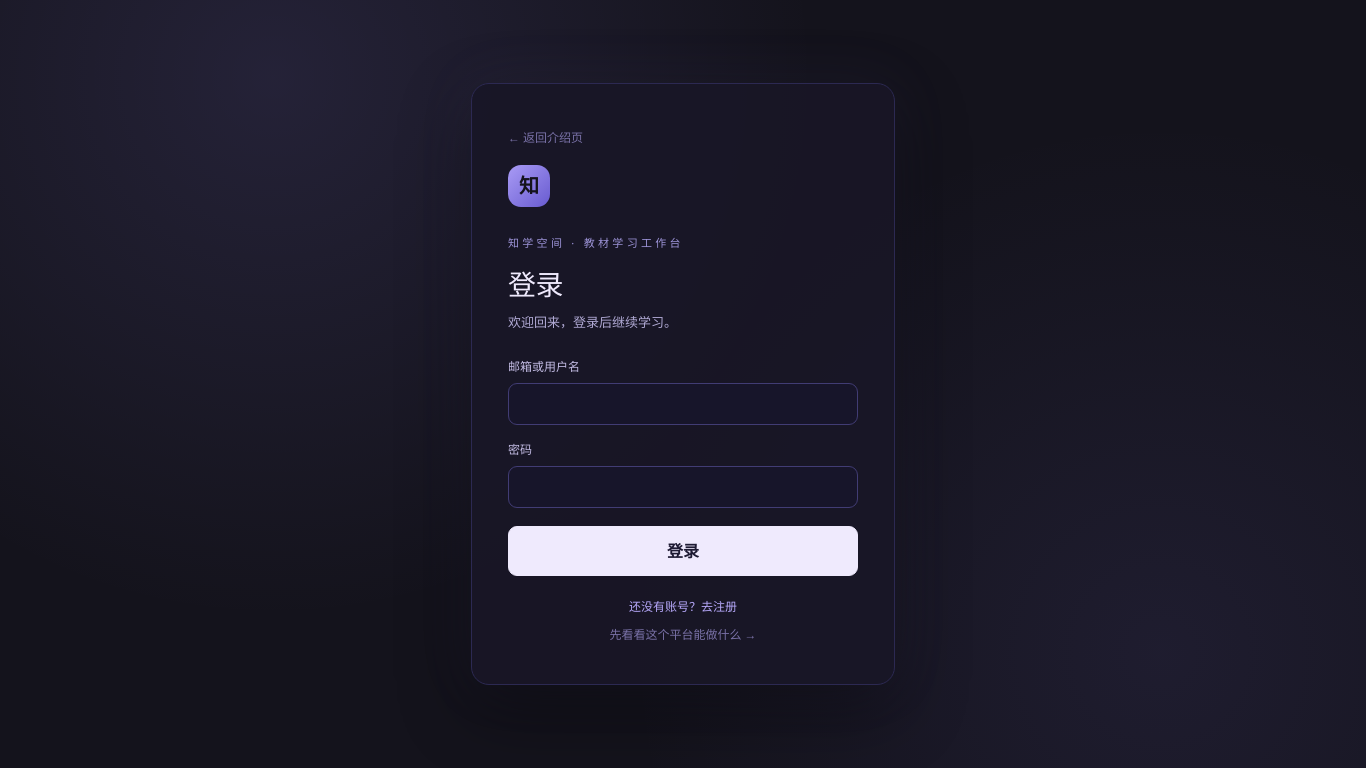
Test: AuthForm › shows a neutral message when login is rejected
Type "learner@example.com" into the field labelled "邮箱或用户名" at (683,404), box x1=508 y1=383 x2=858 y2=425
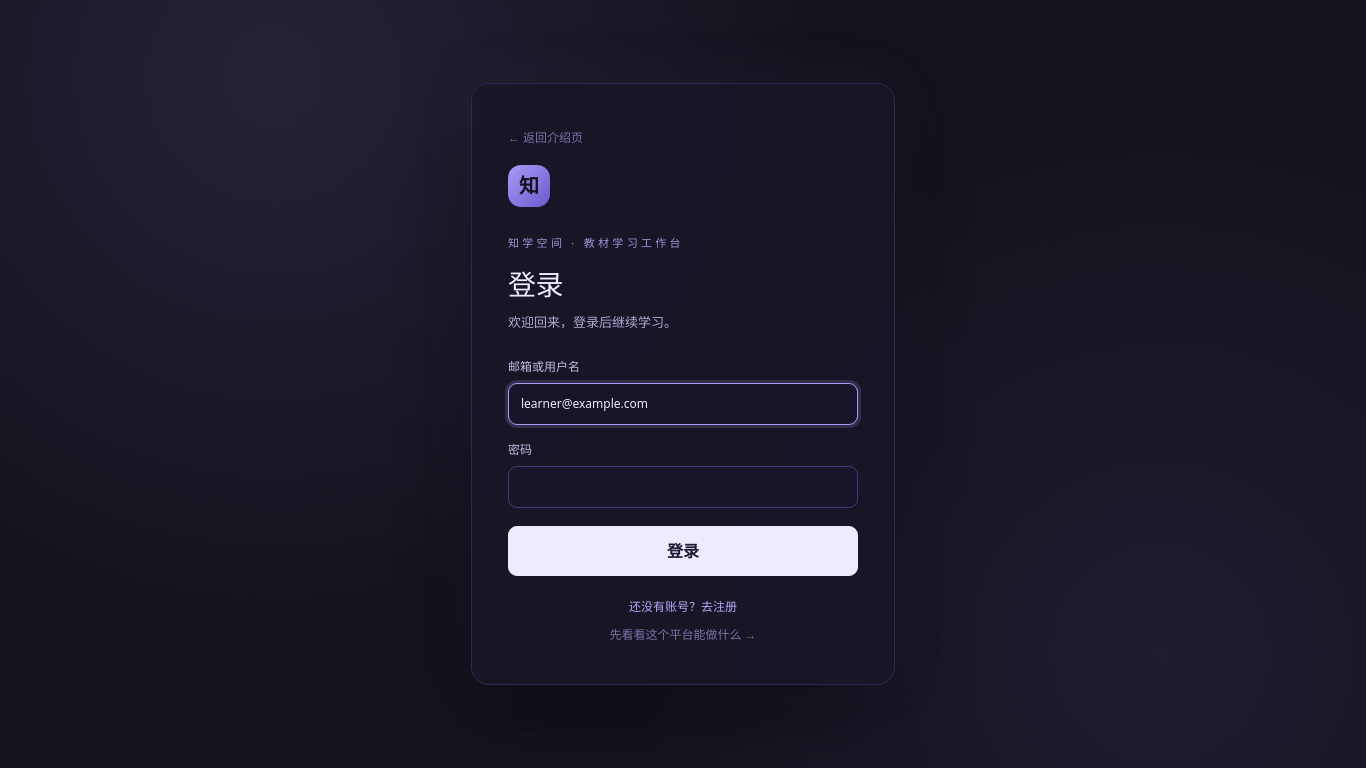
Type "incorrect password" into the password field labelled "密码" at (683,487), box x1=508 y1=466 x2=858 y2=508
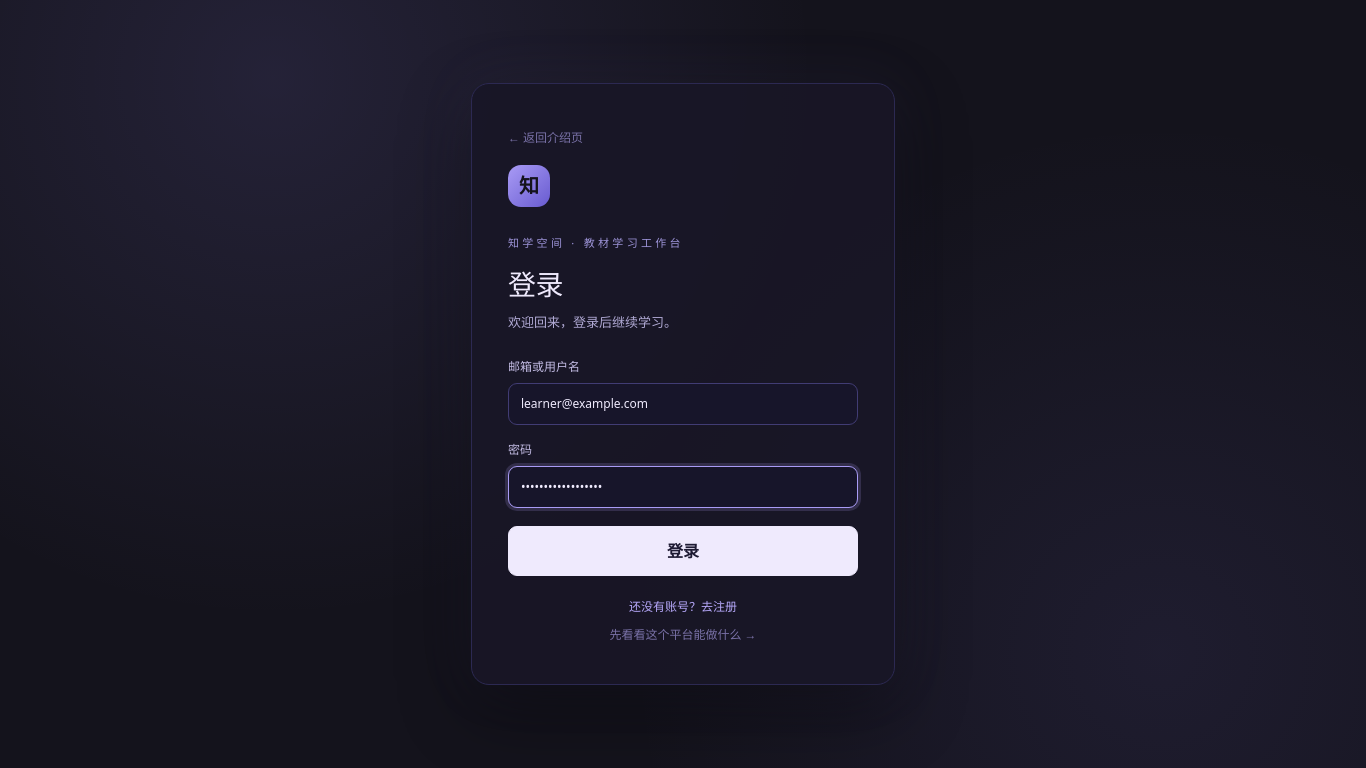
Click the button "登录" at (683,551), box x1=508 y1=526 x2=858 y2=576
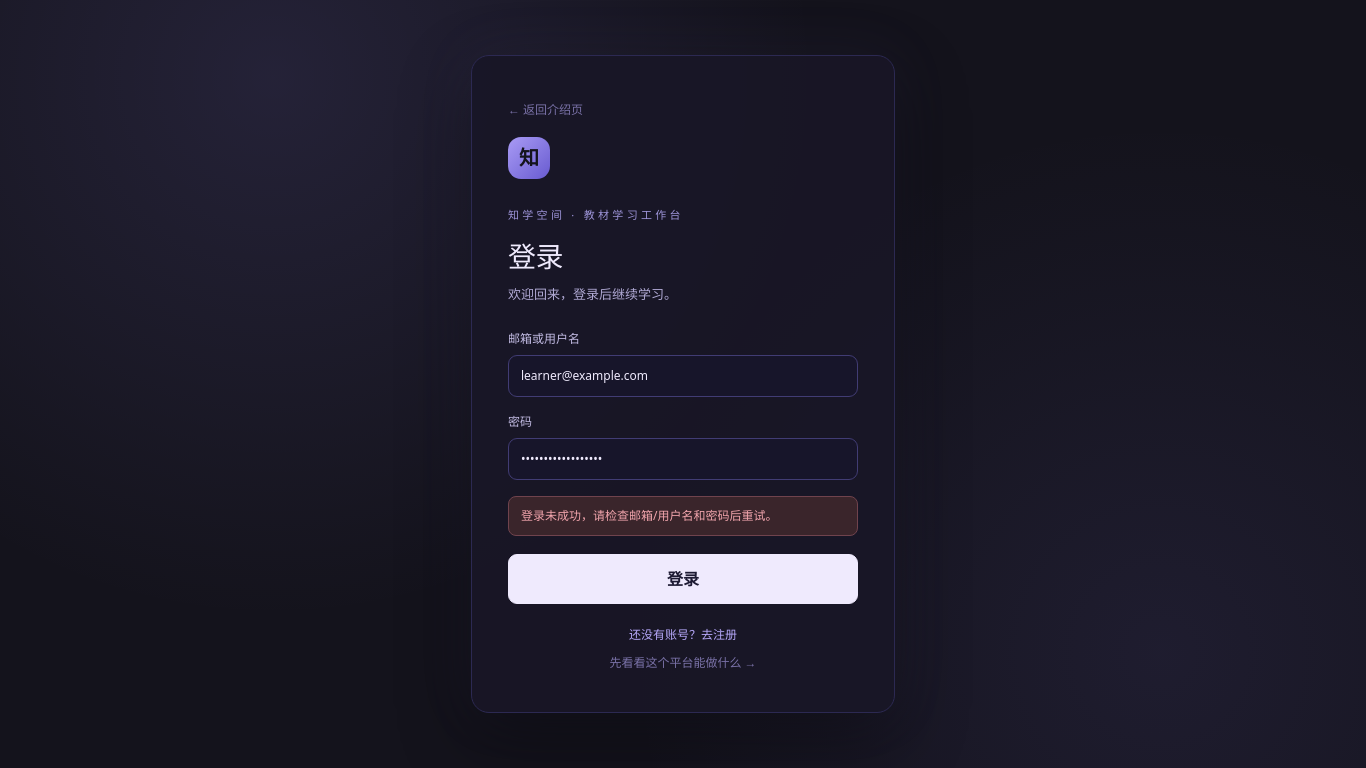
Expected: the message reads "登录未成功，请检查邮箱/用户名和密码后重试。", x1=521 y1=507 x2=778 y2=524
